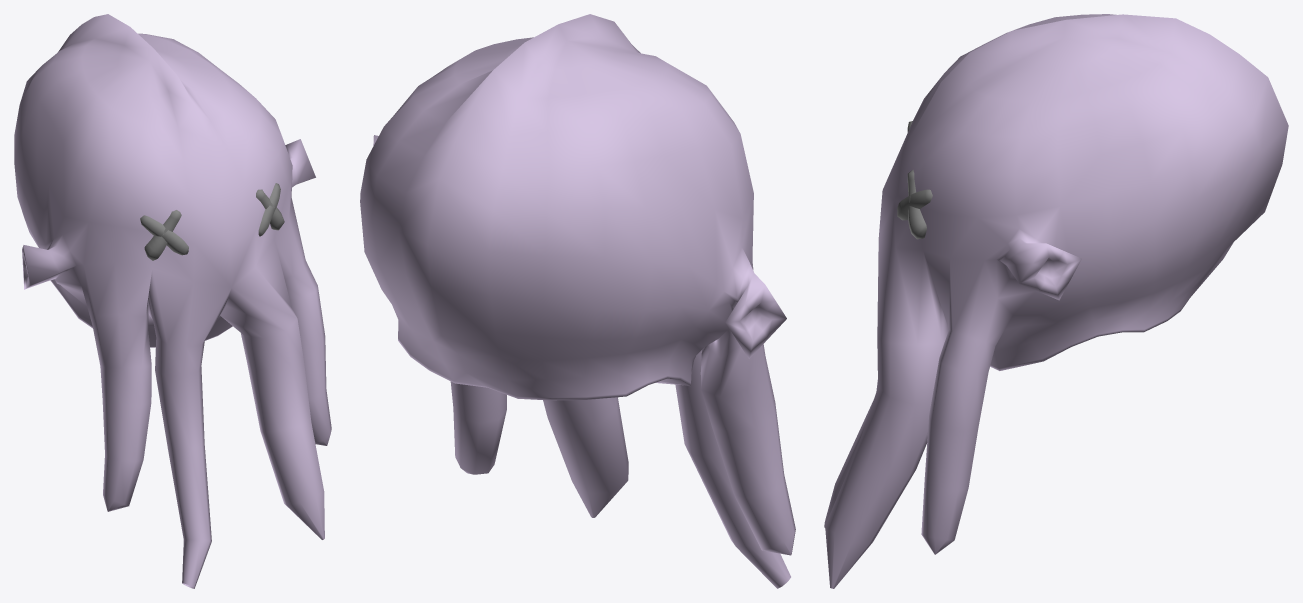
Rendered from cthuluHead.fbx.
3 renders of one model, left to right at view 1: azimuth 30°, elevation 25°; view 2: azimuth 150°, elevation 25°; view 3: azimuth 270°, elevation 25°, orthographic. The views are drawn at different scales.
Visible parts, largest first — view 1: cthuluHead, cthuluHead1; view 2: cthuluHead; view 3: cthuluHead, cthuluHead1.
Boxes of the visible parts, x1,y1,x2,y2 form: cthuluHead: (14,14,331,588); cthuluHead1: (140,183,284,260); cthuluHead: (360,14,795,588); cthuluHead: (824,14,1288,588); cthuluHead1: (897,121,932,239).
Bounding box in the file's own units: 55.85 × 85.87 × 65.36.
